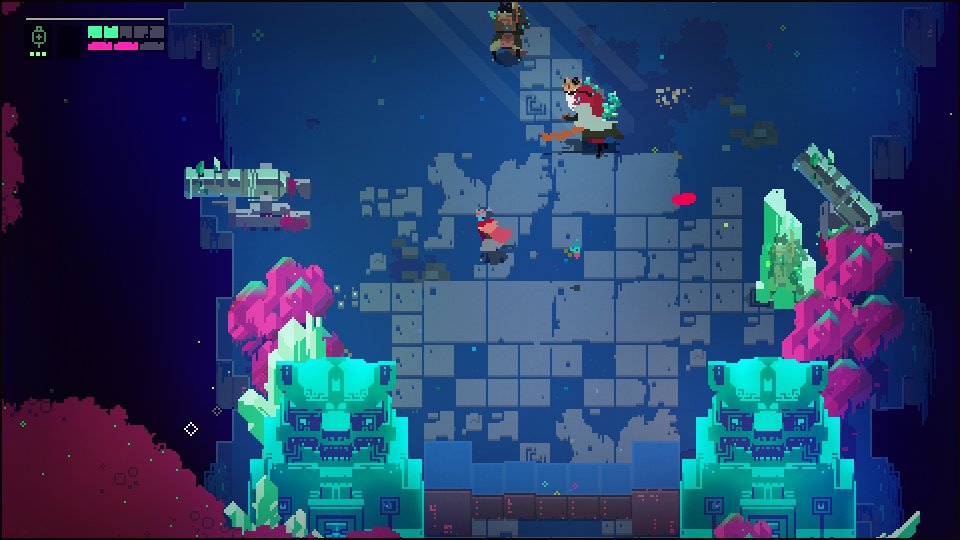hanged_man: (552, 73, 617, 145)
player: (477, 206, 511, 257)
